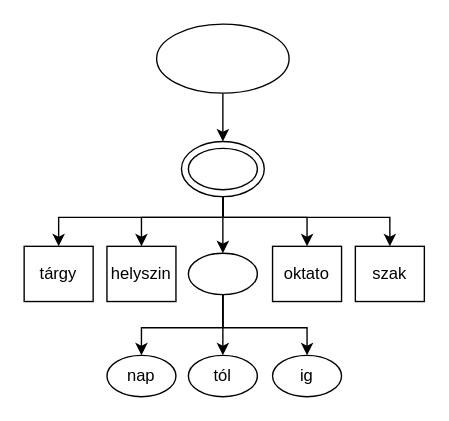
This 449x421 diagram has some shape labels left out. Each missing label, with the centre of its shape:
"idopont" belongs at pixel 222 273.
"ora" belongs at pixel 222 168.
"XY_orarend" belongs at pixel 222 58.
